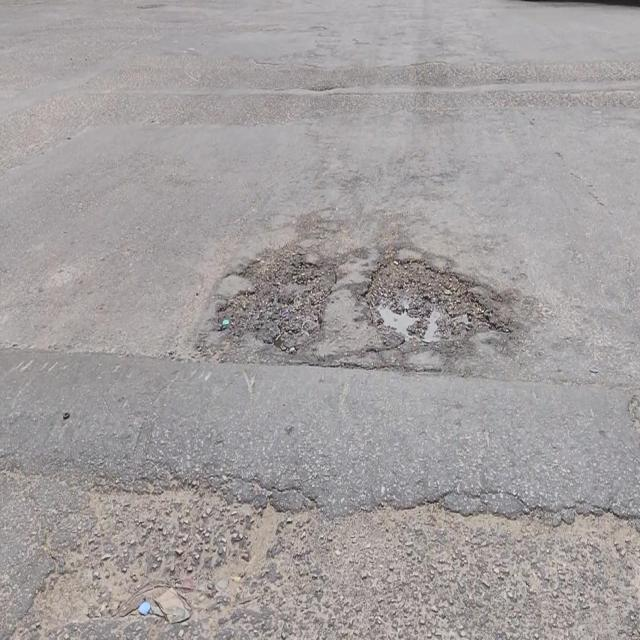Potholes: (215, 242, 337, 359), (360, 259, 493, 344)
